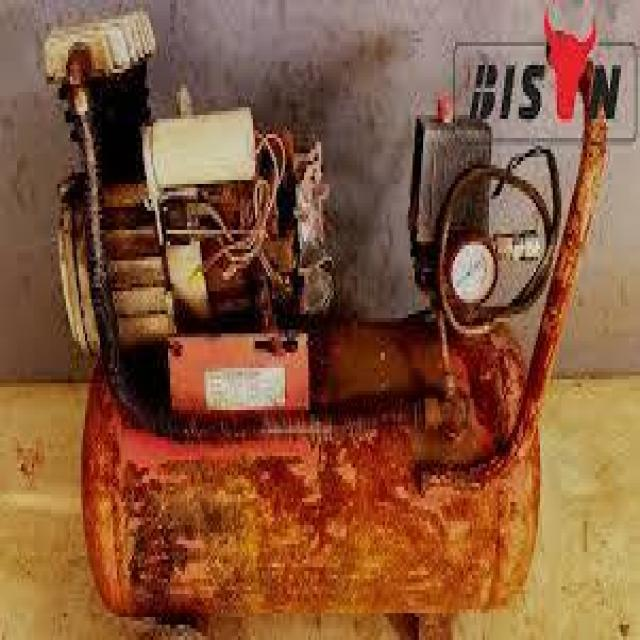compressor: (53, 9, 627, 613)
